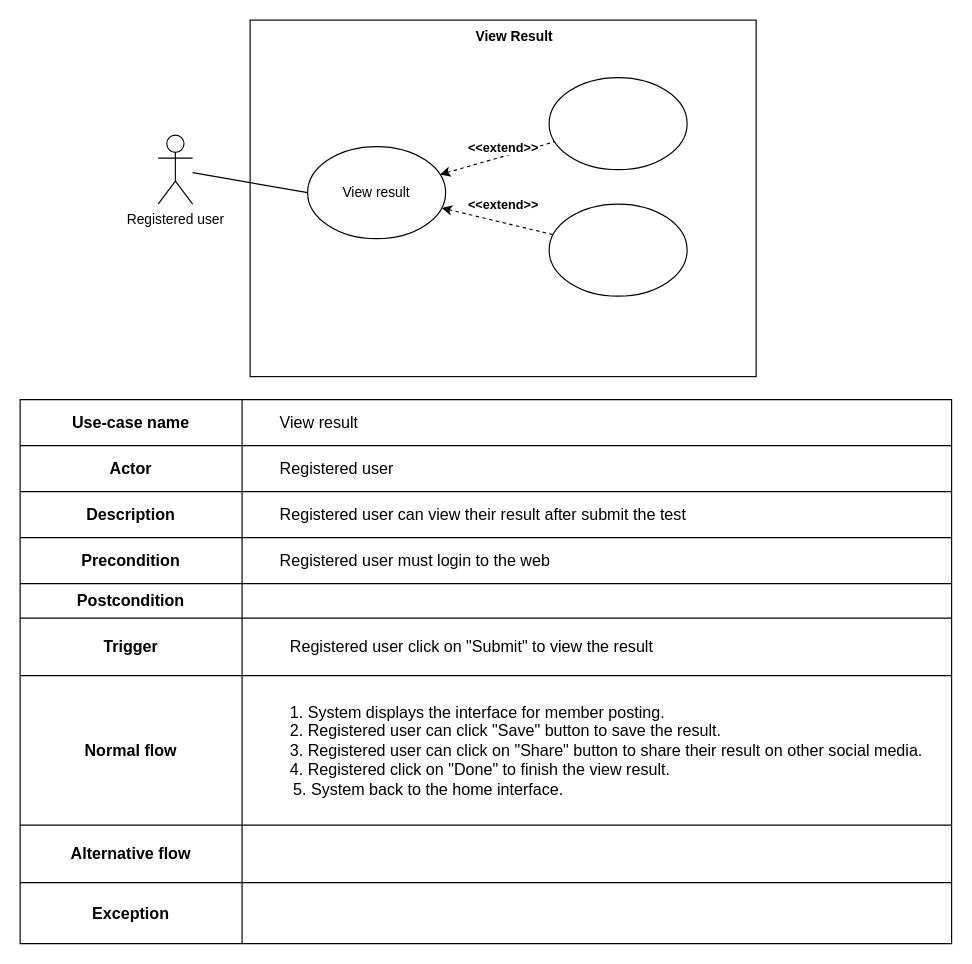
Image size: 972x964. Some labels were removed from this diagram. Each missing label, with the centre of its shape:
Save result: (617,123)
Share result: (617,249)
